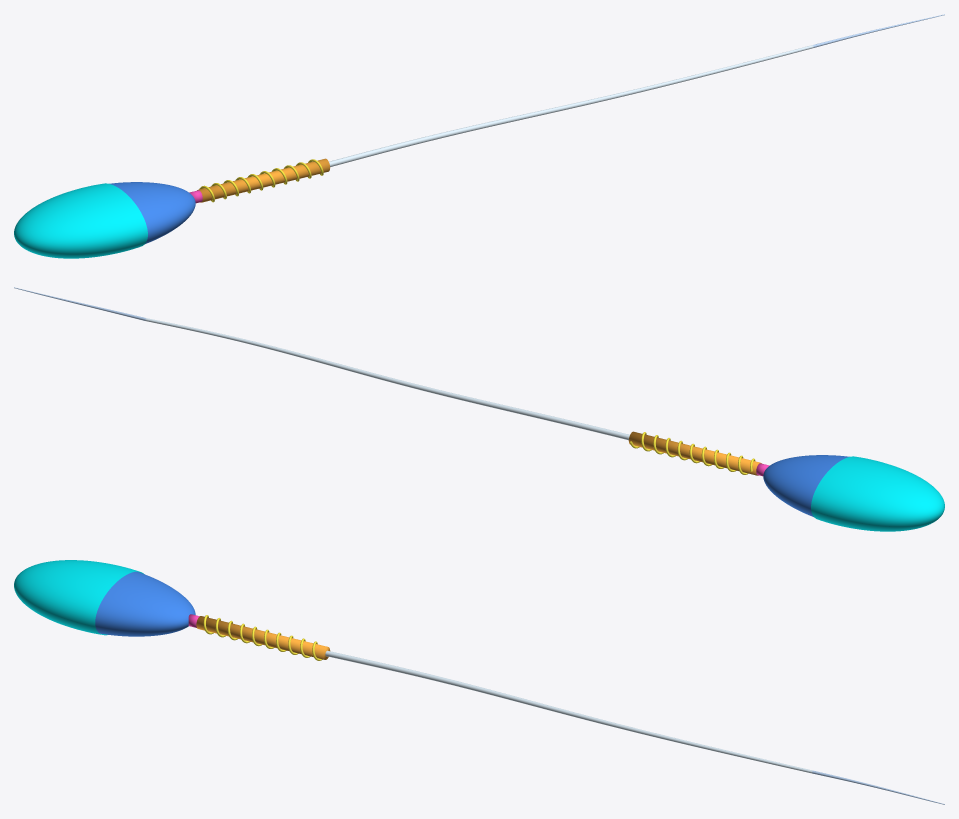
Rendered from 05_Cabeza_macrocefalica.glb.
The picture shows the model from 3 angles, top to bottom: view 1: azimuth 30°, elevation 25°; view 2: azimuth 150°, elevation 25°; view 3: azimuth 330°, elevation 25°; orthographic projection.
Parts seen in each view (by area): view 1: Cubierta_acrosomal_macrocefalica, Cabeza_nucleo_macrocefalica, Cola_pieza_principal.001, Pieza_intermedia.001, Helice_mitocondrial_didactica.001; view 2: Cubierta_acrosomal_macrocefalica, Cabeza_nucleo_macrocefalica, Cola_pieza_principal.001, Pieza_intermedia.001, Helice_mitocondrial_didactica.001; view 3: Cubierta_acrosomal_macrocefalica, Cabeza_nucleo_macrocefalica, Cola_pieza_principal.001, Pieza_intermedia.001, Helice_mitocondrial_didactica.001.
Boxes of the visible parts, box(x1,y1,x2,y2) form: Cubierta_acrosomal_macrocefalica: box(14, 183, 147, 258); Cabeza_nucleo_macrocefalica: box(109, 182, 195, 243); Cola_pieza_principal.001: box(329, 45, 813, 166); Pieza_intermedia.001: box(197, 158, 330, 202); Helice_mitocondrial_didactica.001: box(199, 159, 323, 202); Cubierta_acrosomal_macrocefalica: box(811, 456, 944, 531); Cabeza_nucleo_macrocefalica: box(763, 455, 849, 516); Cola_pieza_principal.001: box(145, 318, 629, 439); Pieza_intermedia.001: box(628, 431, 761, 475); Helice_mitocondrial_didactica.001: box(629, 432, 755, 474); Cubierta_acrosomal_macrocefalica: box(14, 560, 144, 635); Cabeza_nucleo_macrocefalica: box(95, 571, 195, 636); Cola_pieza_principal.001: box(325, 650, 812, 773); Pieza_intermedia.001: box(196, 616, 330, 659); Helice_mitocondrial_didactica.001: box(203, 615, 322, 660).
Bounding box in the file's own units: 66.71 × 3.58 × 6.75.
